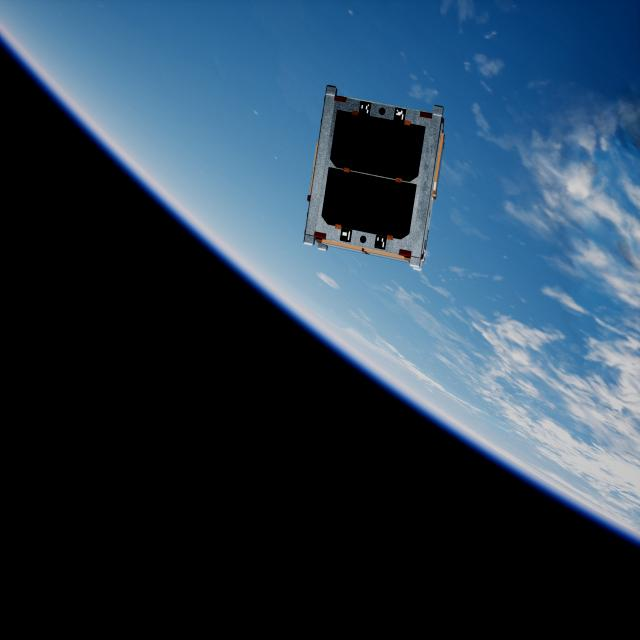satellite: (304, 82, 448, 266)
